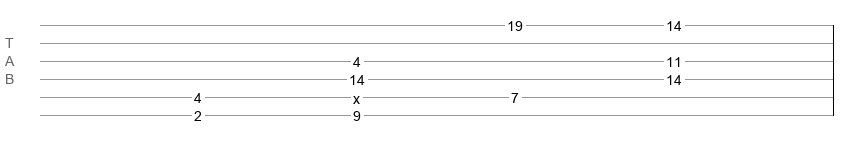11: (666, 54, 682, 64)
14: (349, 72, 365, 82), (666, 18, 682, 28), (666, 72, 682, 82)
19: (507, 18, 523, 28)
2: (194, 108, 202, 118)
4: (194, 90, 202, 100), (353, 54, 361, 64)
7: (511, 90, 519, 100)
9: (353, 108, 361, 118)
x: (353, 91, 360, 99)
